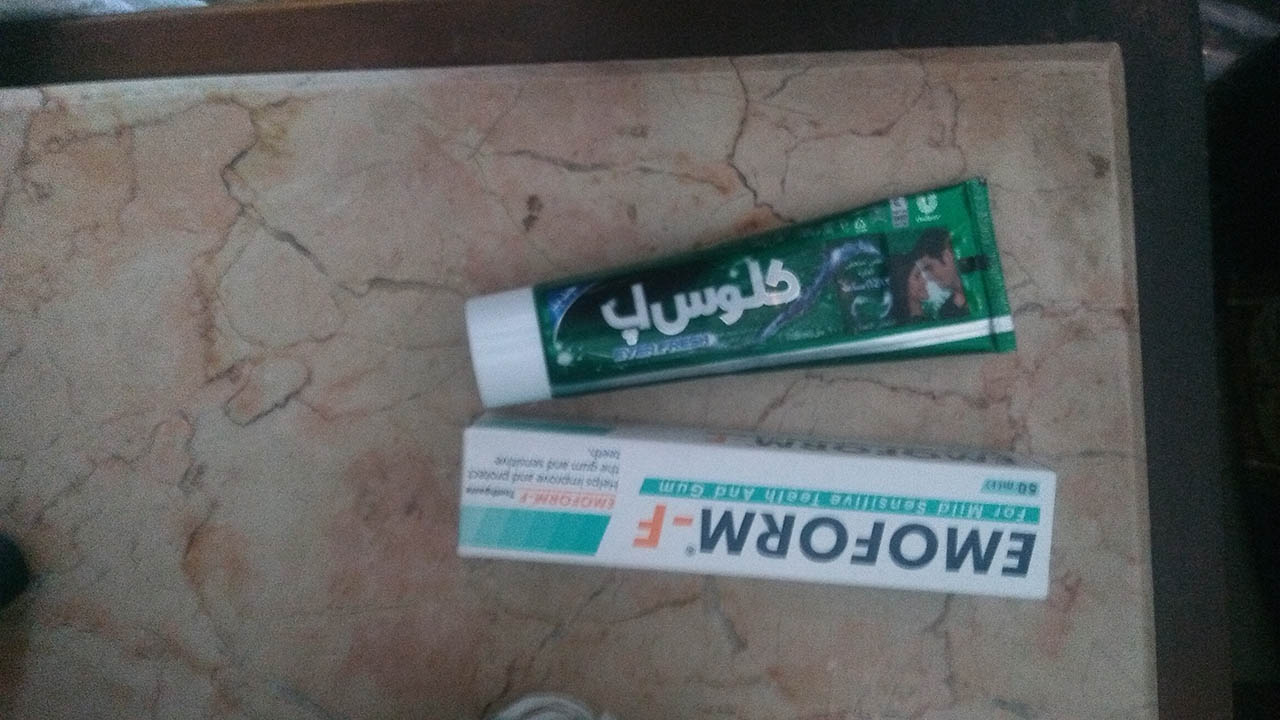Toothpaste-Closeup 3.04$: (415, 190, 1053, 399)
Toothpaste-F 1.5$: (441, 432, 1071, 592)
